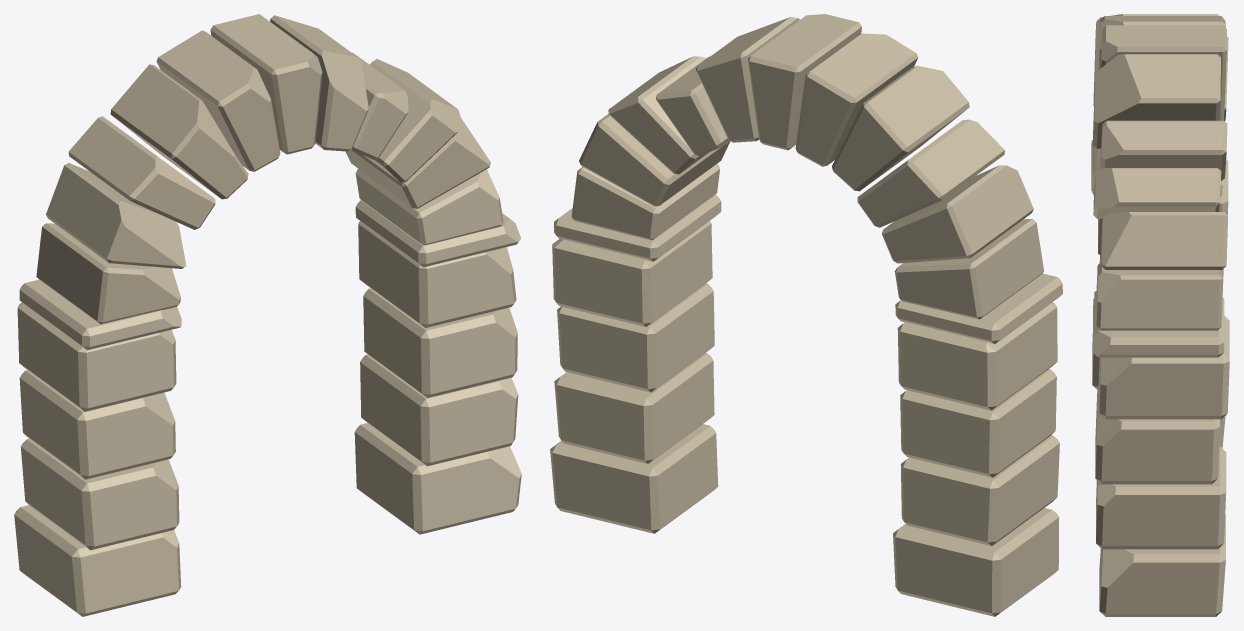
The model's file is Ruin_Arch_A_Detail_v1.glb.
3 views of the same model, side by side, from view 1: azimuth 30°, elevation 25°; view 2: azimuth 150°, elevation 25°; view 3: azimuth 270°, elevation 25° (orthographic). The views are drawn at different scales.
Visible parts, largest first — view 1: Ruin_Arch_A_Detail_v1; view 2: Ruin_Arch_A_Detail_v1; view 3: Ruin_Arch_A_Detail_v1.
Boxes of the visible parts, bbox=[...] form: Ruin_Arch_A_Detail_v1: bbox=[14, 14, 521, 616]; Ruin_Arch_A_Detail_v1: bbox=[550, 14, 1062, 616]; Ruin_Arch_A_Detail_v1: bbox=[1091, 14, 1229, 616].
Bounding box in the file's own units: 8.92 × 9.5 × 2.49.
